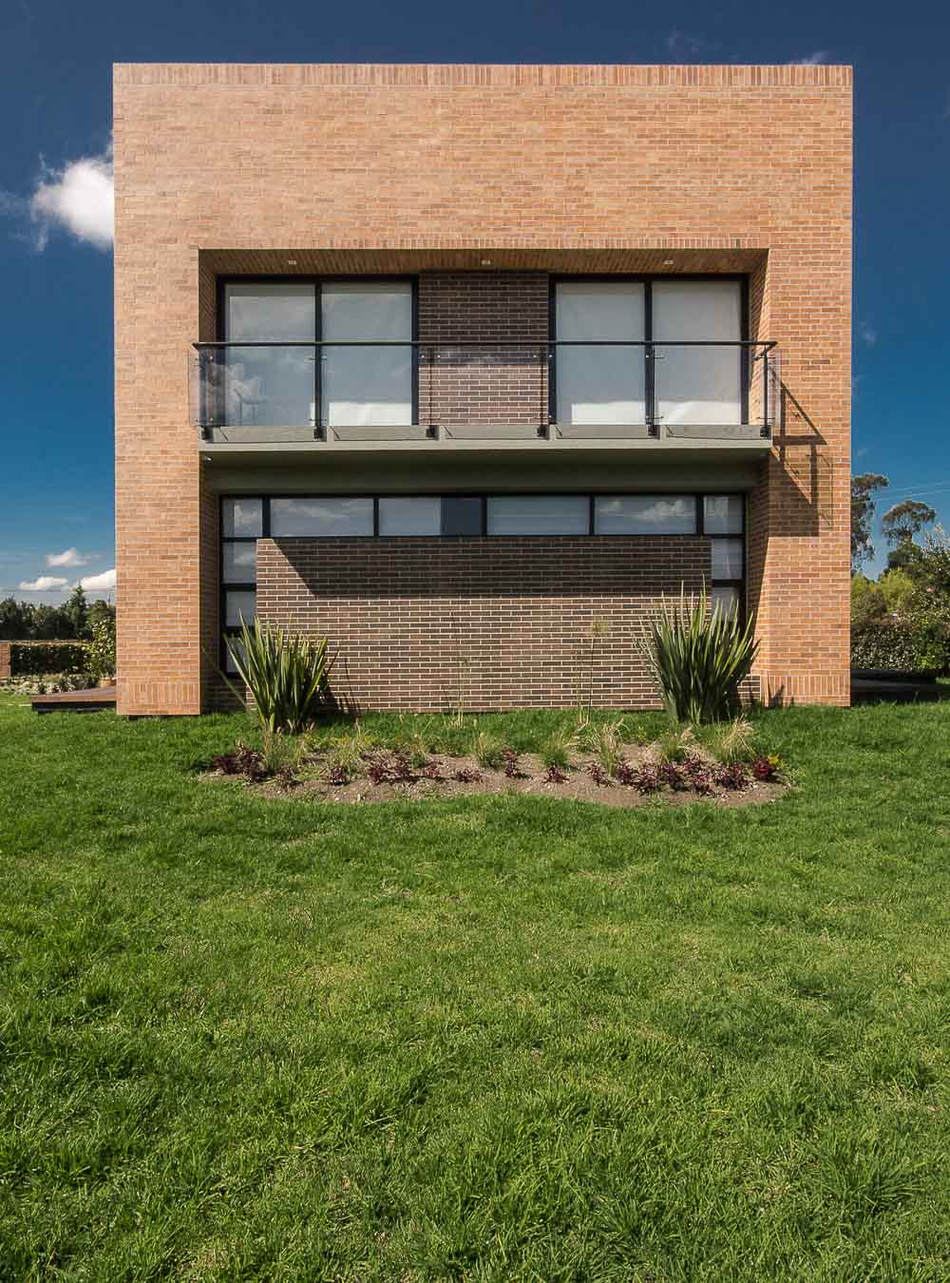House: (92, 35, 870, 737)
